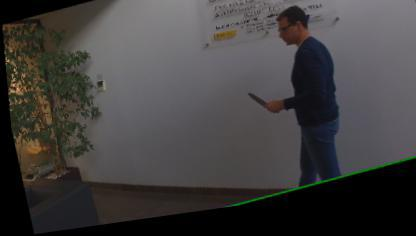knife: (242, 90, 276, 126)
